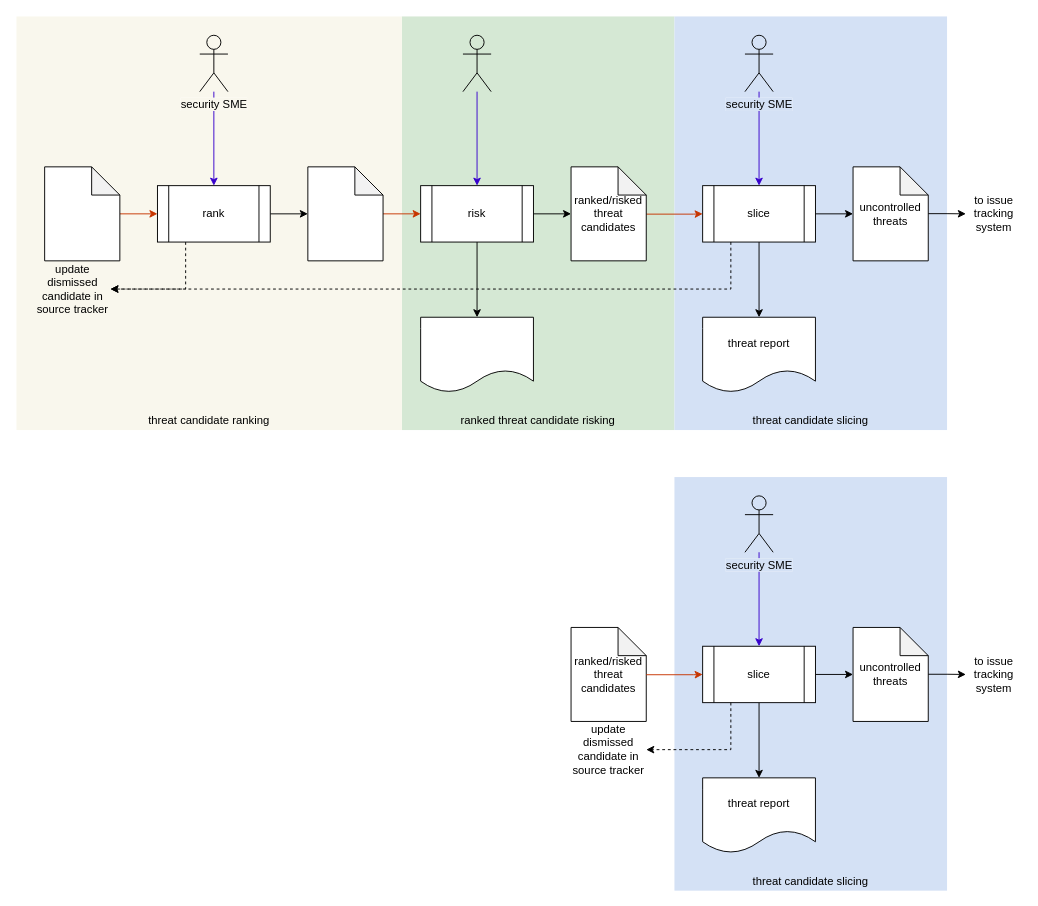
The diagram is 1038 pixels wide and 906 high, and some of its shapes have lost their labels. The shapes that lost their labels are listed below. From the top down, each one's centre as x and y in pixels, then its label:
pixel 476 63: risk SME
pixel 82 213: triaged threat candidates
pixel 345 213: ranked threat candidates
pixel 476 354: ranked / risked threat report
